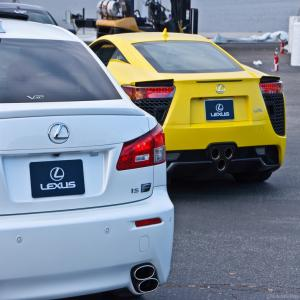Vehicle-registration-plate: (30, 154, 81, 207), (206, 100, 236, 122)
